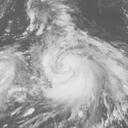cyclone: (39, 35, 127, 112)
